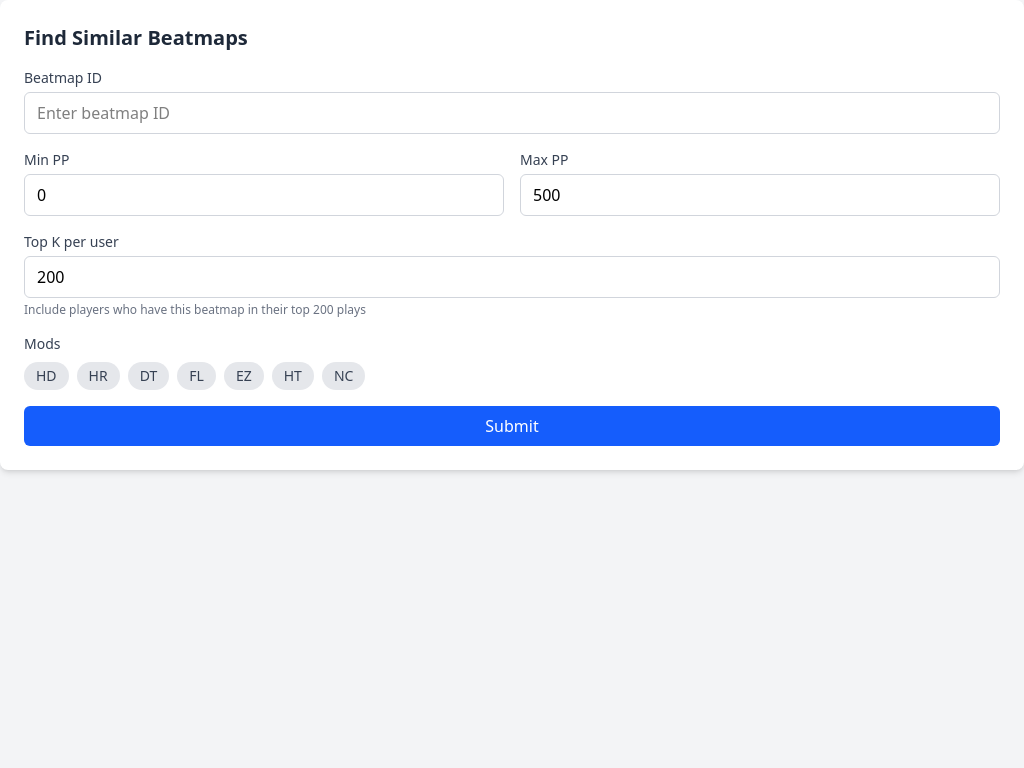
SeedInput › should show validation error for empty beatmap_id
Click the button "Submit".
click(512, 426)  # box x1=24 y1=406 x2=1000 y2=446
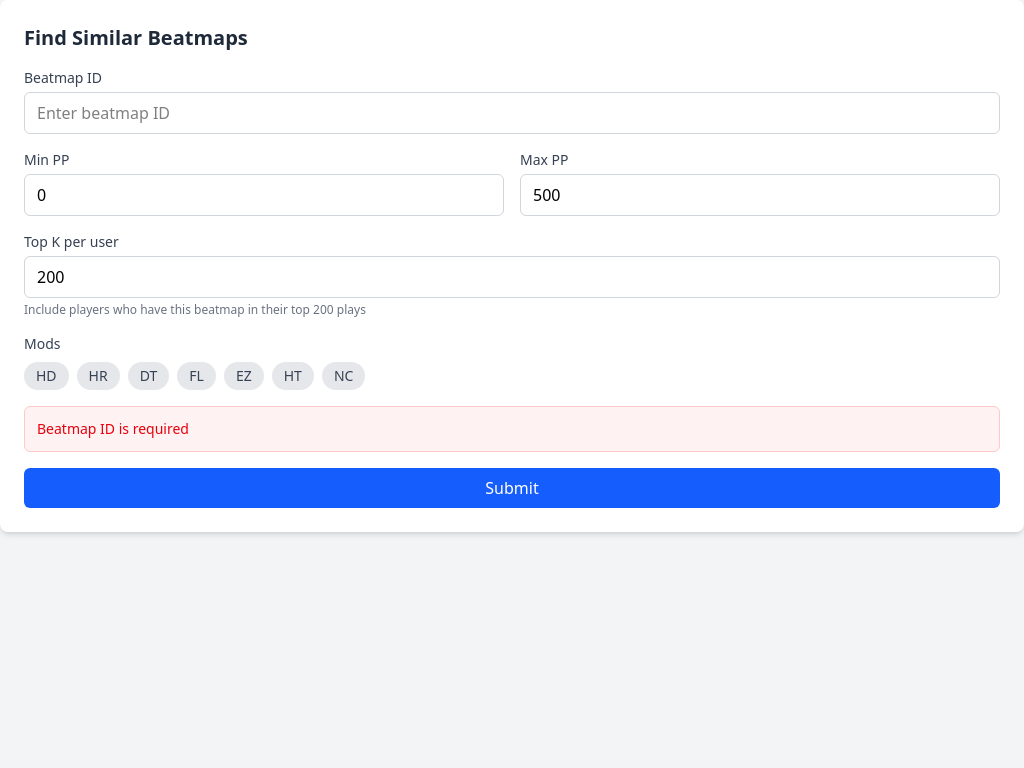
expect the text "Beatmap ID is required" is shown: met, box x1=37 y1=419 x2=189 y2=438
